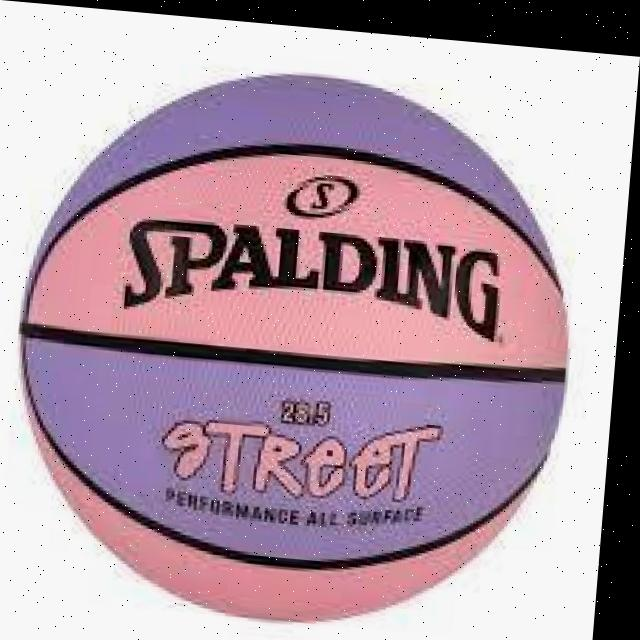Basketball: (0, 50, 588, 640)
